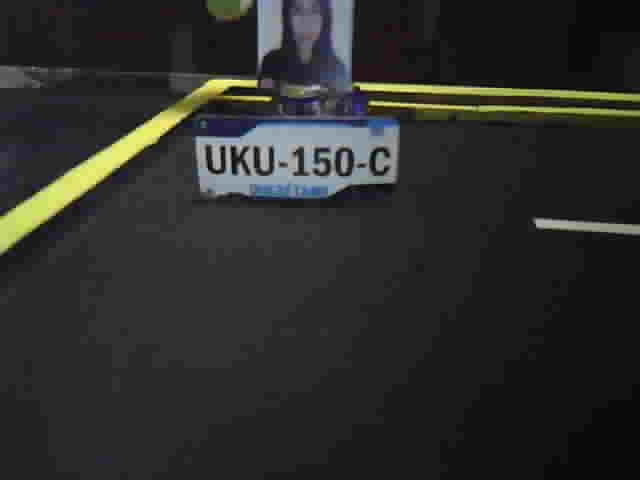PLACA: (193, 111, 401, 201)
ROSTRO: (260, 1, 350, 90)
